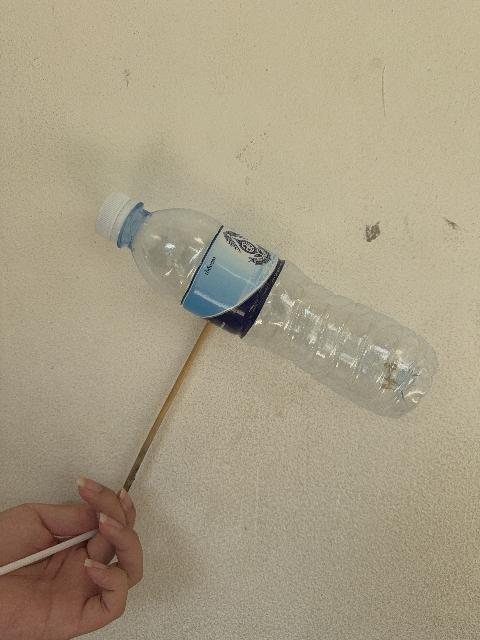bottle: (96, 193, 436, 417)
